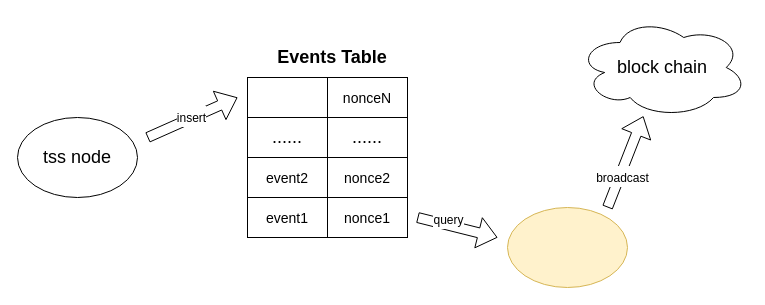
Image size: 765x305. Some labels were removed from this diagram. The shapes that lost their labels are listed below. From the top down, each one's box as (x1, y1, x2, y2) in pixels, then its label:
(246, 76, 328, 118): eventN
(506, 206, 628, 288): relayd
